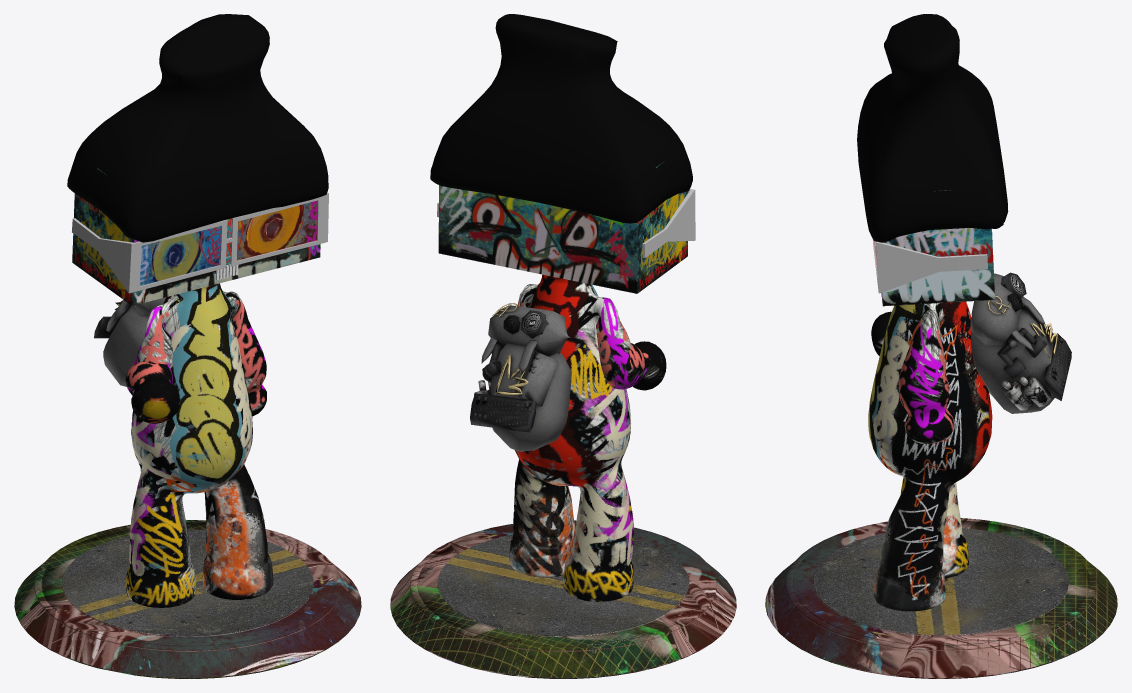
3 renders of one model, left to right at view 1: azimuth 30°, elevation 25°; view 2: azimuth 150°, elevation 25°; view 3: azimuth 270°, elevation 25°, orthographic.
Visible parts, largest first — view 1: BBody; view 2: BBody; view 3: BBody.
Part boxes in pixels (x1=…): BBody: x1=14, y1=14, x2=361, y2=678; BBody: x1=390, y1=14, x2=736, y2=678; BBody: x1=765, y1=14, x2=1117, y2=678.
Size of the model in its own units: 1.45 by 2.65 by 1.45.
10 materials, 5 textured.
